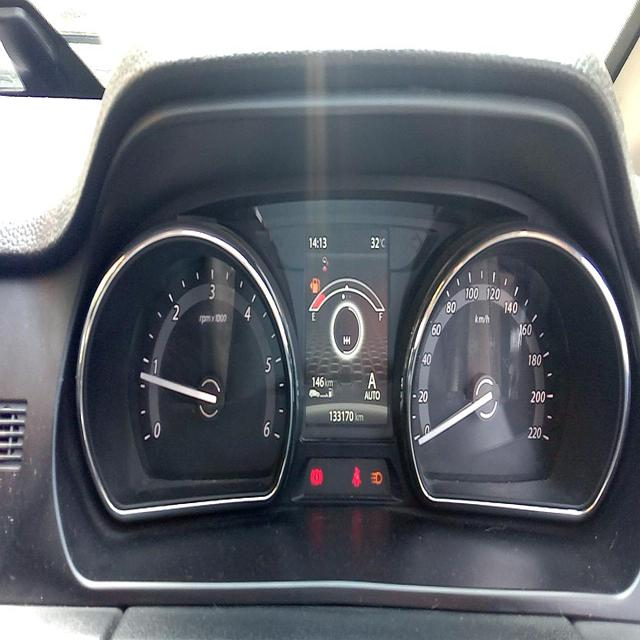odometer: (325, 404, 353, 424)
